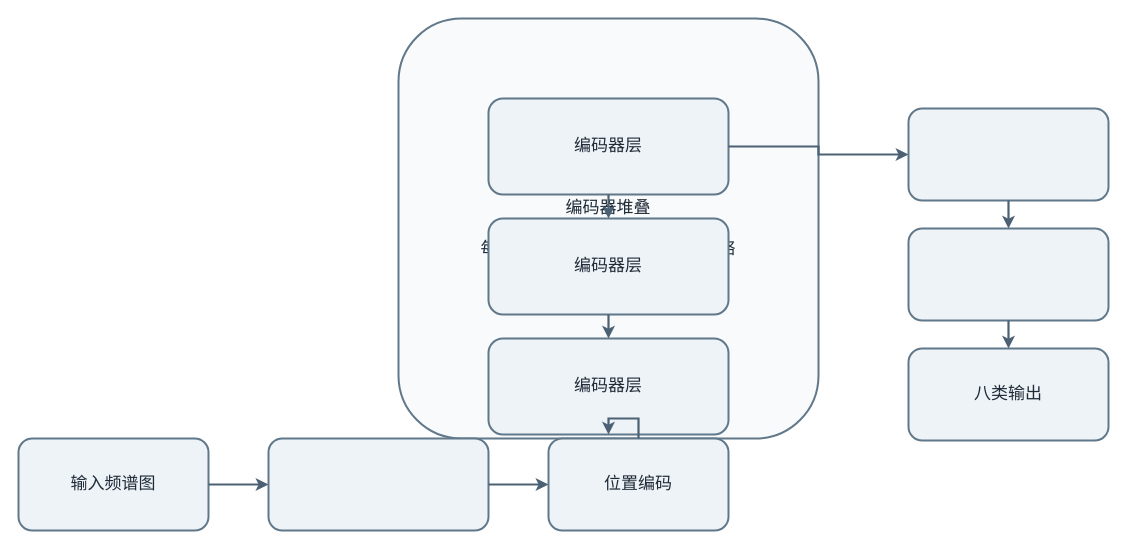
The diagram is 1126 pixels wide and 548 high, and some of its shapes have lost their labels. The box of each missing label's shape, as (x1, y1, x2, y2) in pixels:
二维分块嵌入 三十二乘三十二: (267, 437, 489, 531)
序列池化: (907, 107, 1109, 201)
线性分类器: (907, 227, 1109, 321)
